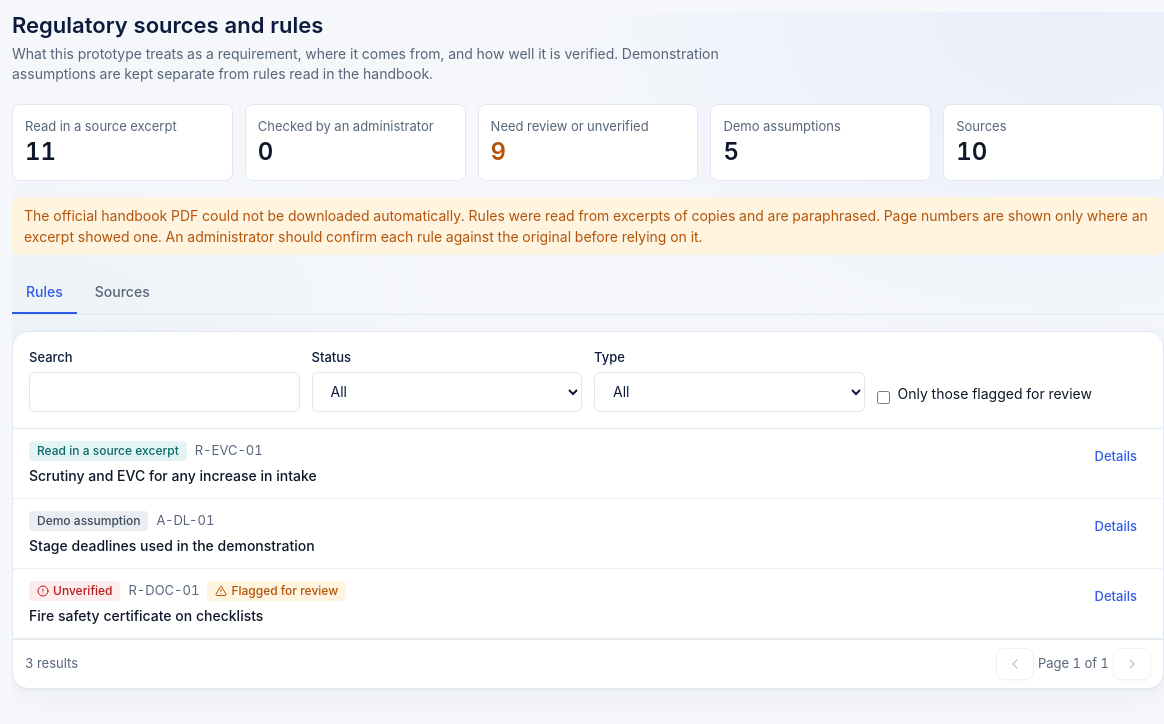
Scenario: regulatory rules page › separates verification levels, shows source, section and page note, and warns that the original was not retrieved
The image size is (1164, 724).
Expected: the text "could not be downloaded automatically" is shown, x1=24 y1=207 x2=1148 y2=245
Expected: the text "Read in a source excerpt" next to "R-EVC-01" is shown, x1=37 y1=442 x2=179 y2=458
Click the button "Details" in the row of "R-EVC-01".
click(1116, 456)  # box x1=1084 y1=440 x2=1147 y2=472
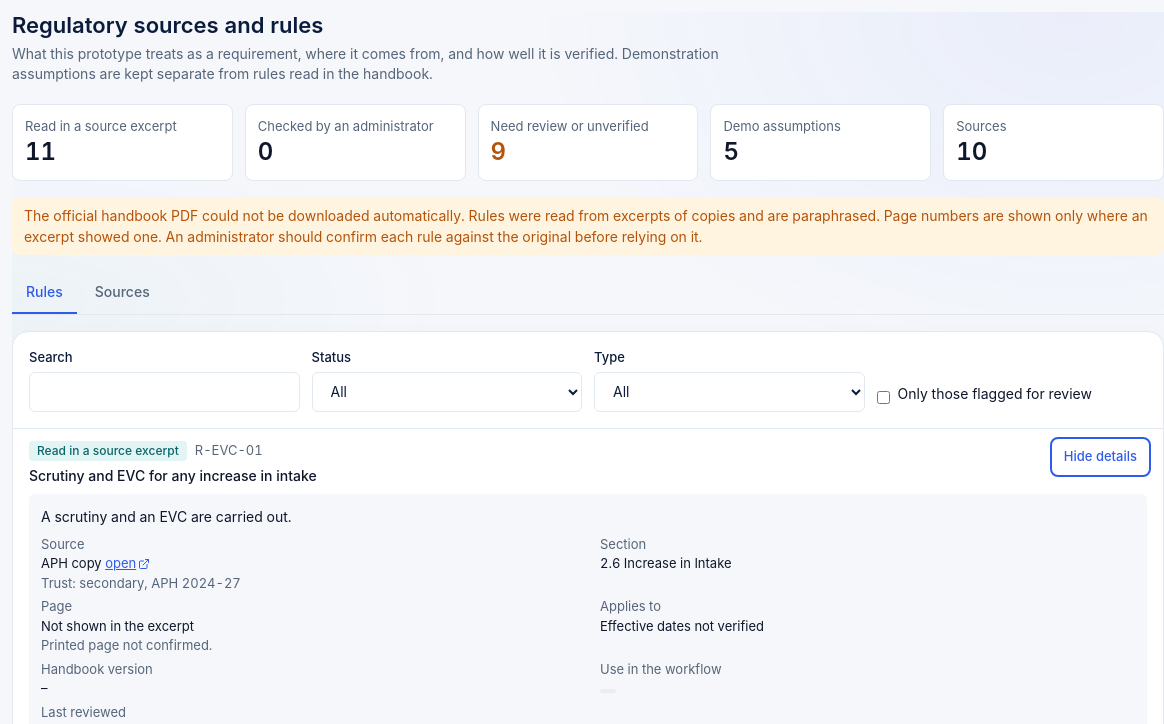
Result: the text "2.6 Increase in Intake" is shown at x1=600 y1=555 x2=732 y2=571
Result: the text "Printed page not confirmed." is shown at x1=41 y1=637 x2=212 y2=653
Result: the text "Not shown in the excerpt" is shown at x1=41 y1=618 x2=194 y2=634
